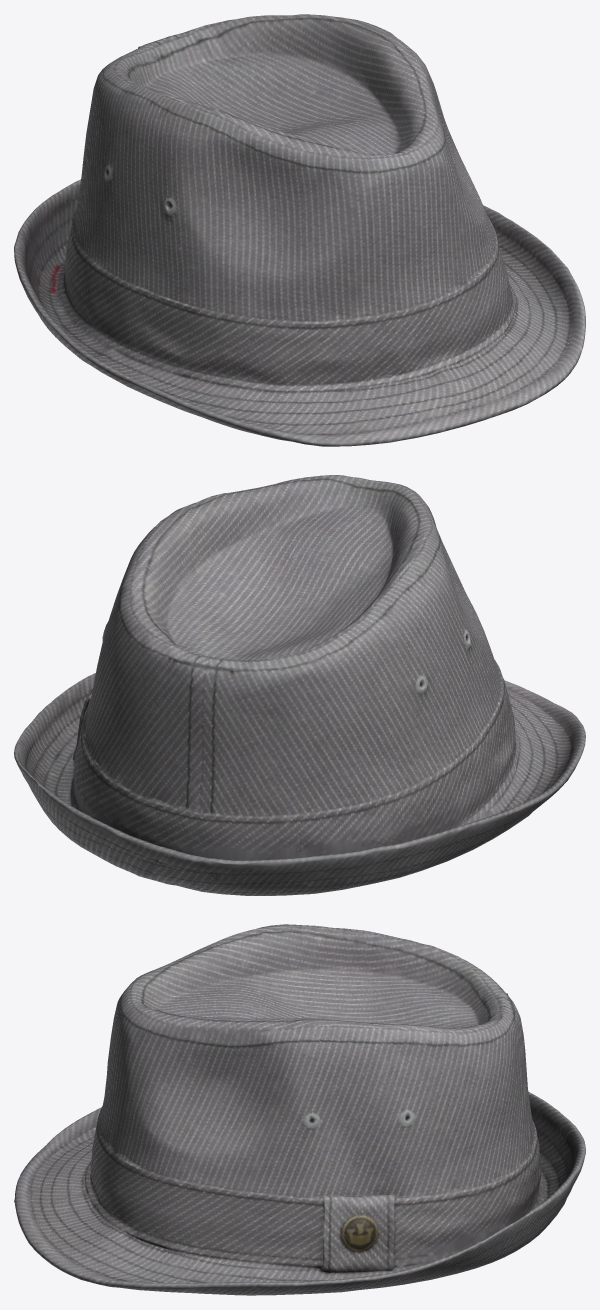
Rendered from Retail_Leadership_Summit_eCT3zqHYIkX.glb.
3 renders of one model, top to bottom at view 1: azimuth 30°, elevation 25°; view 2: azimuth 150°, elevation 25°; view 3: azimuth 270°, elevation 25°, orthographic. The views are drawn at different scales.
Parts seen in each view (by area): view 1: Retail_Leadership_Summit_eCT3zqHYIkX; view 2: Retail_Leadership_Summit_eCT3zqHYIkX; view 3: Retail_Leadership_Summit_eCT3zqHYIkX.
Part boxes in pixels (x1,y1,x2,y2): Retail_Leadership_Summit_eCT3zqHYIkX: [14, 14, 585, 446]; Retail_Leadership_Summit_eCT3zqHYIkX: [14, 475, 585, 895]; Retail_Leadership_Summit_eCT3zqHYIkX: [14, 924, 585, 1295].
Size of the model in its own units: 0.2422 by 0.1237 by 0.2739.
Materials: 1 (1 with a texture image).
